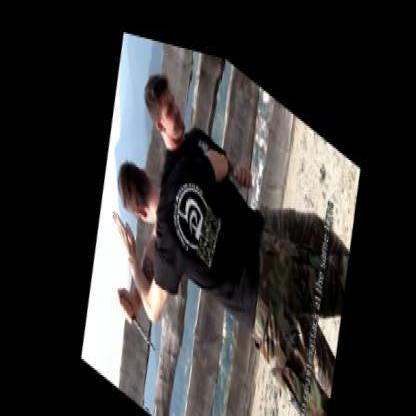knife: (105, 278, 158, 353)
